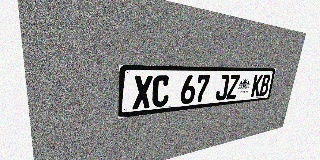6: (180, 75, 197, 105)
7: (194, 75, 210, 103)
B: (259, 74, 271, 96)
C: (151, 75, 170, 108)
J: (215, 75, 230, 101)
K: (251, 75, 263, 97)
X: (132, 75, 153, 110)
Z: (226, 75, 240, 100)
